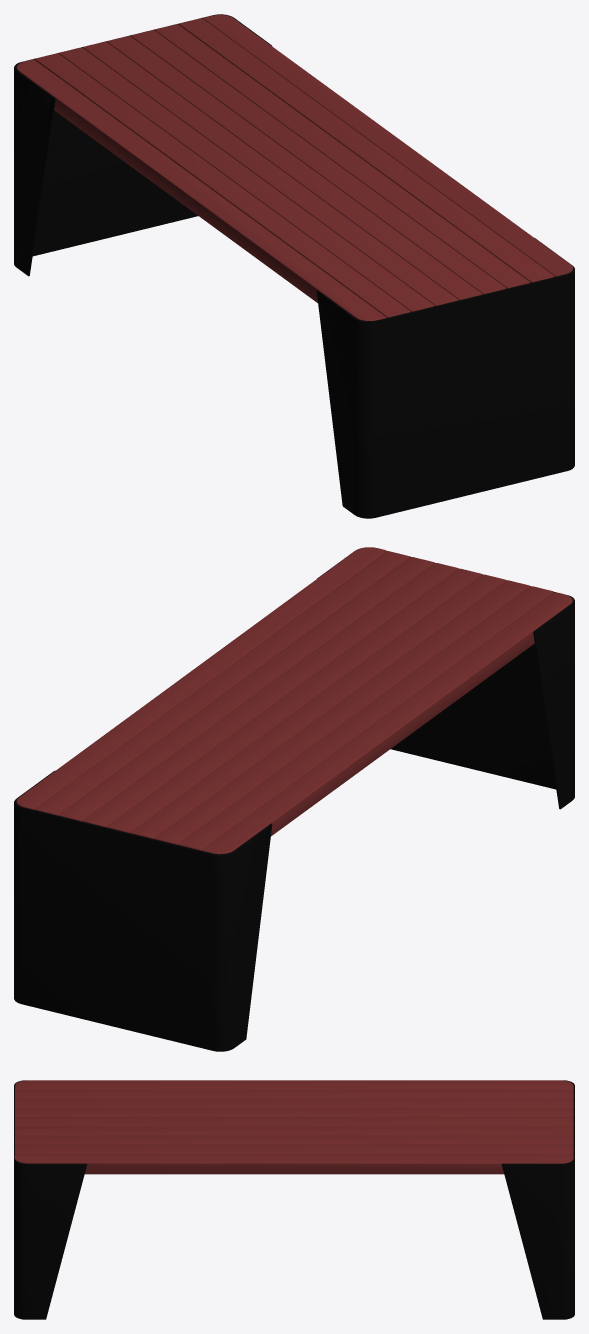
Rendered from LAVA__corona.fbx.
3 views of the same model, one above another, from view 1: azimuth 30°, elevation 25°; view 2: azimuth 150°, elevation 25°; view 3: azimuth 270°, elevation 25° (orthographic). The views are drawn at different scales.
Visible parts, largest first — view 1: LAVA_011, LAVA_010, LAVA_001, LAVA_003, LAVA_007, LAVA_005, LAVA_002, LAVA_008, LAVA_006, LAVA_009, LAVA_004; view 2: LAVA_010, LAVA_011, LAVA_001, LAVA_003, LAVA_007, LAVA_009, LAVA_002, LAVA_005, LAVA_008, LAVA_006, LAVA_004; view 3: LAVA_004, LAVA_010, LAVA_011, LAVA_005, LAVA_007, LAVA_008, LAVA_009, LAVA_002, LAVA_003, LAVA_006, LAVA_001.
Boxes of the visible parts, bbox=[...] form: LAVA_011: bbox=[316, 238, 574, 518]; LAVA_010: bbox=[14, 14, 271, 276]; LAVA_001: bbox=[16, 59, 386, 320]; LAVA_003: bbox=[35, 53, 410, 317]; LAVA_007: bbox=[179, 18, 554, 282]; LAVA_005: bbox=[154, 24, 530, 288]; LAVA_002: bbox=[59, 47, 434, 311]; LAVA_008: bbox=[83, 41, 458, 305]; LAVA_006: bbox=[131, 30, 506, 294]; LAVA_009: bbox=[107, 35, 482, 299]; LAVA_004: bbox=[202, 14, 573, 276]; LAVA_010: bbox=[14, 771, 272, 1051]; LAVA_011: bbox=[317, 551, 574, 809]; LAVA_001: bbox=[202, 592, 572, 854]; LAVA_003: bbox=[178, 586, 554, 850]; LAVA_007: bbox=[35, 551, 410, 815]; LAVA_009: bbox=[107, 568, 482, 833]; LAVA_002: bbox=[155, 580, 530, 844]; LAVA_005: bbox=[59, 557, 434, 821]; LAVA_008: bbox=[130, 574, 506, 839]; LAVA_006: bbox=[83, 563, 458, 827]; LAVA_004: bbox=[16, 547, 386, 809]; LAVA_004: bbox=[14, 1154, 573, 1174]; LAVA_010: bbox=[501, 1080, 574, 1319]; LAVA_011: bbox=[14, 1080, 87, 1319]; LAVA_005: bbox=[14, 1135, 573, 1144]; LAVA_007: bbox=[14, 1145, 573, 1154]; LAVA_008: bbox=[14, 1108, 573, 1117]; LAVA_009: bbox=[14, 1117, 573, 1126]; LAVA_002: bbox=[14, 1098, 573, 1107]; LAVA_003: bbox=[14, 1089, 573, 1098]; LAVA_006: bbox=[14, 1126, 573, 1135]; LAVA_001: bbox=[15, 1080, 573, 1089].
Size of the model in its own units: 464 by 402 by 1305.
